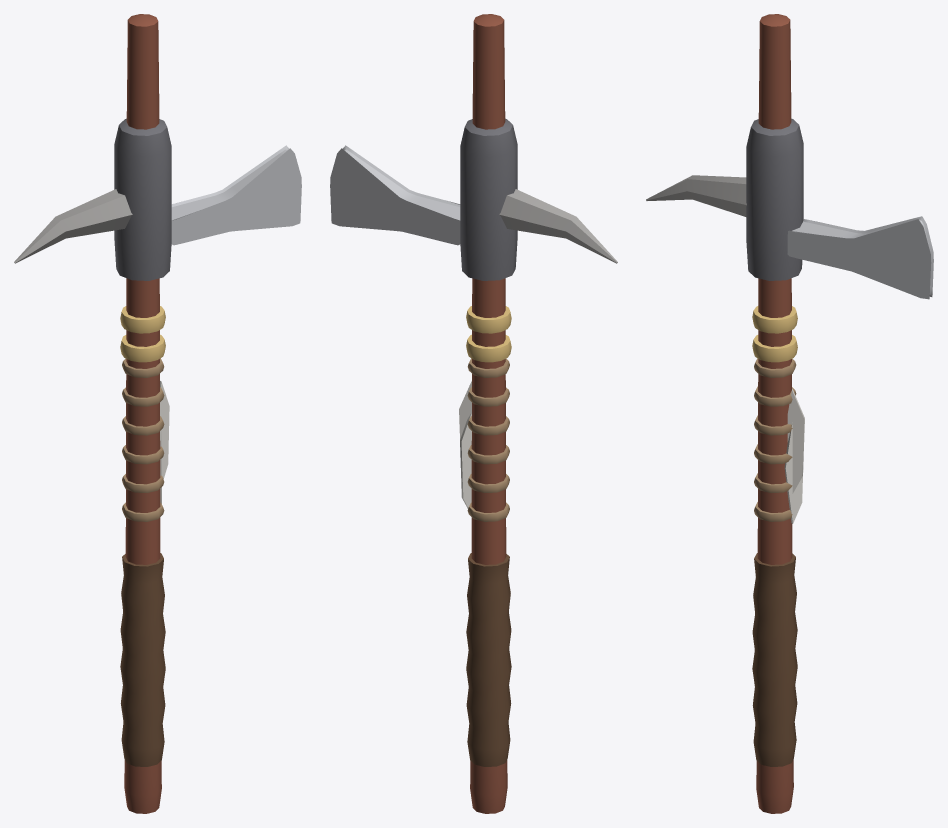
File: raider_tomahawk.glb
3 renders of one model, left to right at view 1: azimuth 30°, elevation 25°; view 2: azimuth 150°, elevation 25°; view 3: azimuth 330°, elevation 25°, orthographic.
Visible parts, largest first — view 1: raider_tomahawk; view 2: raider_tomahawk; view 3: raider_tomahawk.
Part boxes in pixels (<box>): raider_tomahawk: <box>14,14,301,813</box>; raider_tomahawk: <box>330,14,617,813</box>; raider_tomahawk: <box>646,14,933,813</box>.
Size of the model in its own units: 0.3121 by 0.825 by 0.0517.
